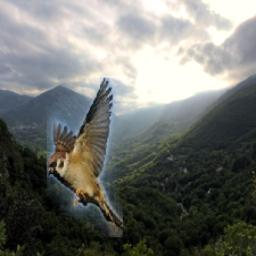Sparrow: (48, 78, 124, 237)
